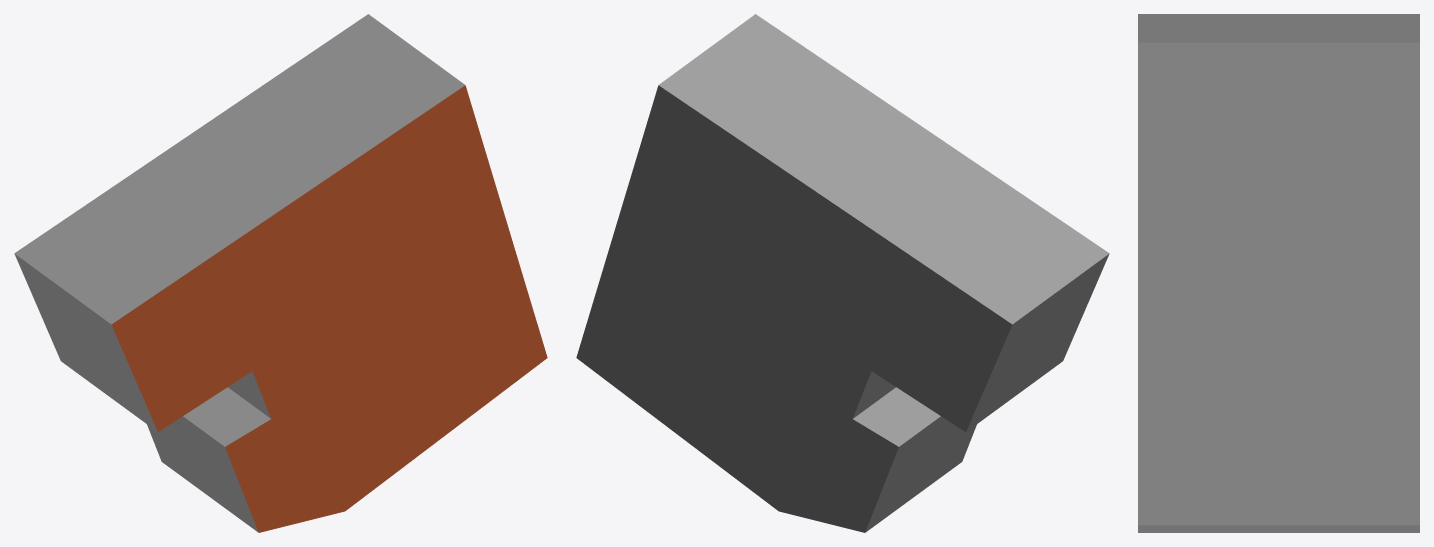
The model's file is construction_6576_assumed_A_Casa_h6m.obj.
The picture shows the model from 3 angles, left to right: view 1: azimuth 30°, elevation 25°; view 2: azimuth 150°, elevation 25°; view 3: azimuth 270°, elevation 25°; orthographic projection. The views are drawn at different scales.
Visible parts, largest first — view 1: construction_6576_assumed_A_Casa; view 2: construction_6576_assumed_A_Casa; view 3: construction_6576_assumed_A_Casa.
Part boxes in pixels (x1,y1,x2,y2): construction_6576_assumed_A_Casa: [14, 14, 547, 532]; construction_6576_assumed_A_Casa: [576, 14, 1109, 532]; construction_6576_assumed_A_Casa: [1138, 14, 1419, 532].
Bounding box in the file's own units: 15.55 × 13.53 × 6.
